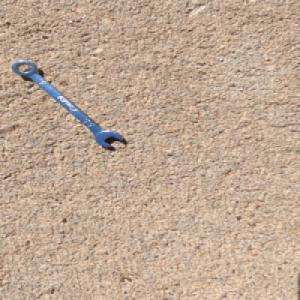Wrench: (10, 59, 125, 149)
